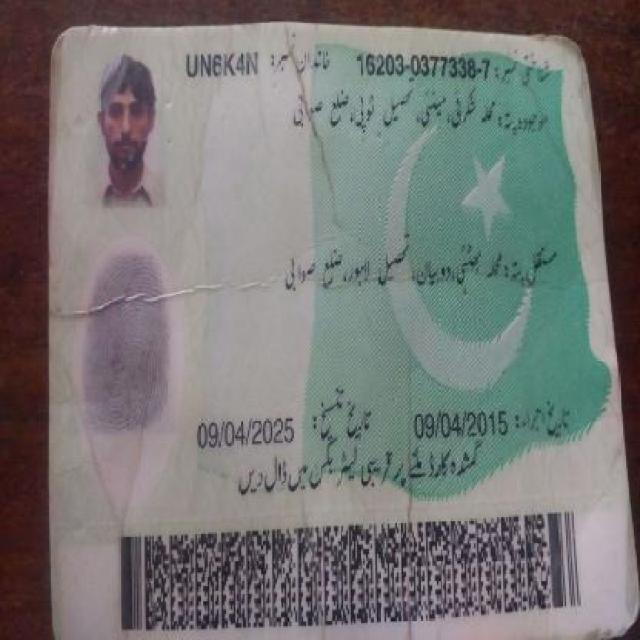Back: (29, 23, 605, 626)
